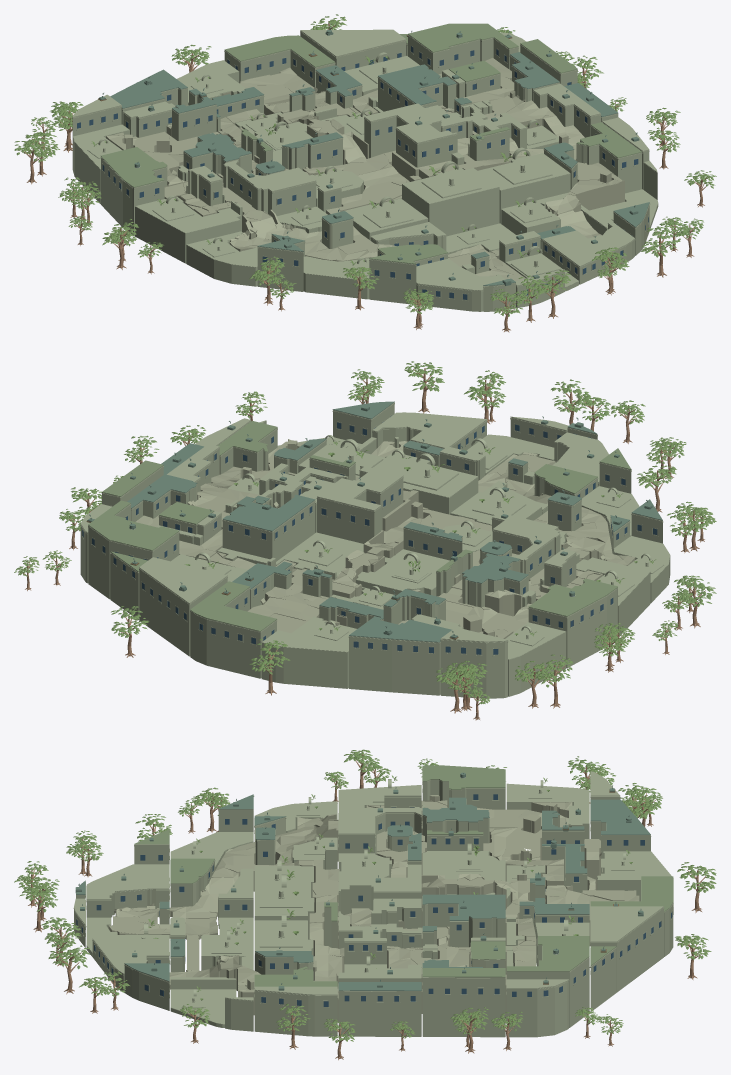
The model's file is ancient.glb.
3 renders of one model, top to bottom at view 1: azimuth 30°, elevation 25°; view 2: azimuth 150°, elevation 25°; view 3: azimuth 270°, elevation 25°, orthographic. The views are drawn at different scales.
Visible parts, largest first — view 1: ARENA_lower_stone, ARENA_lower_paving, ARENA_lower_leaf, ARENA_lower_metal, ARENA_lower_roof, ARENA_lower_bark, ARENA_lower_glass; view 2: ARENA_lower_stone, ARENA_lower_paving, ARENA_lower_leaf, ARENA_lower_metal, ARENA_lower_roof, ARENA_lower_bark, ARENA_lower_glass; view 3: ARENA_lower_stone, ARENA_lower_paving, ARENA_lower_leaf, ARENA_lower_metal, ARENA_lower_roof, ARENA_lower_bark, ARENA_lower_glass.
Boxes of the visible parts, left/top/right/bottom form: ARENA_lower_stone: left=72, top=29, right=658, bottom=311; ARENA_lower_paving: left=106, top=58, right=624, bottom=280; ARENA_lower_leaf: left=14, top=14, right=716, bottom=316; ARENA_lower_metal: left=99, top=27, right=649, bottom=285; ARENA_lower_roof: left=101, top=23, right=641, bottom=264; ARENA_lower_bark: left=24, top=21, right=708, bottom=332; ARENA_lower_glass: left=77, top=46, right=648, bottom=299; ARENA_lower_stone: left=80, top=402, right=670, bottom=698; ARENA_lower_paving: left=136, top=439, right=635, bottom=638; ARENA_lower_leaf: left=14, top=361, right=716, bottom=704; ARENA_lower_metal: left=87, top=401, right=662, bottom=642; ARENA_lower_roof: left=88, top=420, right=631, bottom=631; ARENA_lower_bark: left=22, top=368, right=706, bottom=720; ARENA_lower_glass: left=82, top=416, right=657, bottom=654; ARENA_lower_stone: left=73, top=767, right=673, bottom=1037; ARENA_lower_paving: left=108, top=795, right=639, bottom=1021; ARENA_lower_leaf: left=14, top=749, right=716, bottom=1043; ARENA_lower_metal: left=75, top=773, right=650, bottom=990; ARENA_lower_roof: left=134, top=765, right=673, bottom=986; ARENA_lower_bark: left=23, top=754, right=707, bottom=1060; ARENA_lower_glass: left=76, top=794, right=672, bottom=1006.
Size of what is drawn, in the model's own units: 67.26 by 8.26 by 71.15.
